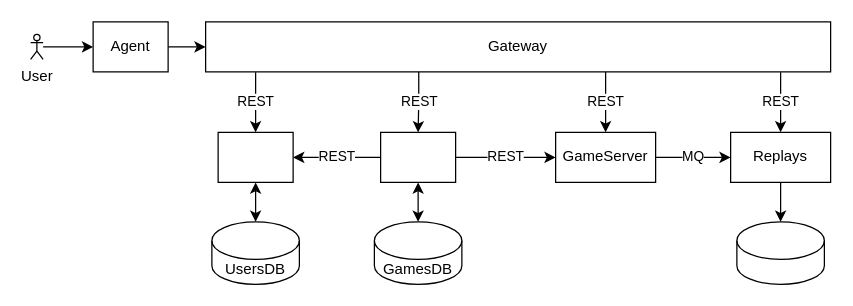
Image size: 853x306. Some labels were removed from this diagram. The shapes that lost their labels are listed below. From the top down, each one's centre as x and y in pixels, then its label:
pixel 255 156: Users
pixel 417 156: Games
pixel 780 252: ReplaysDB
